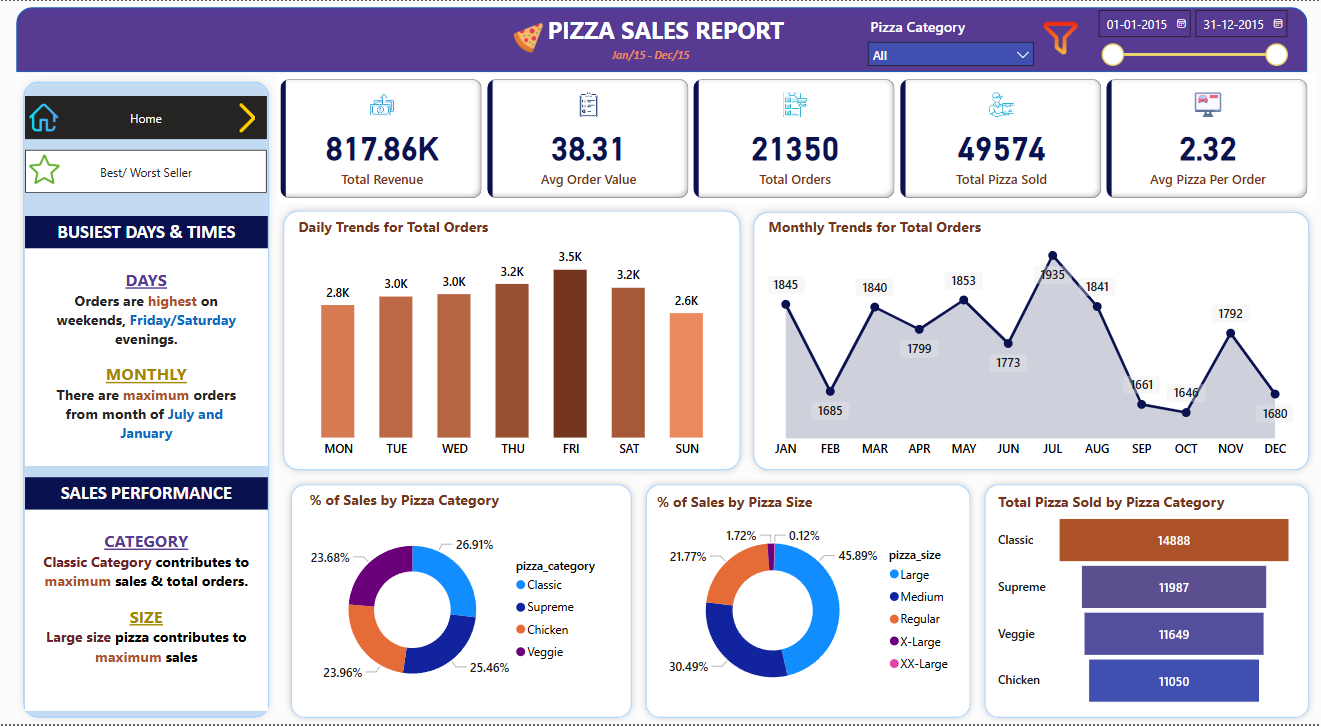

What the dashboard file says about the page in this screenshot:
{"tool":"powerbi","page":{"name":"Home","canvas":[1500,820],"ordinal":0},"visuals":[{"type":"cardVisual","fields":{"Data":["pizza_sales.Total Revenue","pizza_sales.Avg Order Value","pizza_sales.Total Orders","pizza_sales.Total Pizza Sold","pizza_sales.Avg Pizza Per Order"]},"box":[313.1,83.6,1178.7,145.9],"z":0},{"type":"shape","box":[18.4,7.1,1463.5,73.7],"z":1000},{"type":"textbox","box":[688.5,46.8,117.6,36.8],"z":2000},{"type":"shape","box":[18.4,83.6,294.7,736.7],"z":3000},{"type":"textbox","box":[535.5,9.9,437.8,48.2],"z":4000},{"type":"image","box":[569.5,19.8,58.1,43.9],"z":5000},{"type":"shape","box":[313.1,229.5,534.1,310.3],"z":6000},{"type":"columnChart","title":"Daily Trends for Total Orders","fields":{"Category":["pizza_sales.Order Day"],"Y":["pizza_sales.Total Orders"]},"box":[332.9,243.7,497.3,283.3],"z":7000},{"type":"shape","box":[845.8,230.9,646,308.8],"z":8000},{"type":"areaChart","title":"Monthly Trends for Total Orders","fields":{"Category":["pizza_sales.Order Month"],"Y":["pizza_sales.Total Orders"]},"box":[865.6,243.7,604.9,283.3],"z":9000},{"type":"shape","box":[321.6,539.8,402.4,280.5],"z":10000},{"type":"shape","box":[724,539.8,383.9,280.5],"z":11000},{"type":"shape","box":[1107.9,539.8,383.9,280.5],"z":12000},{"type":"donutChart","title":"% of Sales by Pizza Category","fields":{"Category":["pizza_sales.pizza_category"],"Y":["pizza_sales.Total Revenue"]},"box":[345.7,553.9,352.8,250.8],"z":13000},{"type":"donutChart","title":"% of Sales by Pizza Size","fields":{"Y":["pizza_sales.Total Revenue"],"Category":["pizza_sales.pizza_size"]},"box":[739.5,555.4,352.8,249.3],"z":14000},{"type":"funnel","title":"Total Pizza Sold by Pizza Category","fields":{"Category":["pizza_sales.pizza_category"],"Y":["pizza_sales.Total Pizza Sold"]},"box":[1126.3,555.4,344.3,249.3],"z":15000},{"type":"textbox","box":[28.3,243.7,274.8,36.8],"z":16000},{"type":"textbox","box":[28.3,280.5,274.8,246.5],"z":17000},{"type":"textbox","box":[28.3,539.8,274.8,36.8],"z":18000},{"type":"textbox","box":[28.3,576.6,274.8,228.1],"z":19000},{"type":"slicer","fields":{"Values":["pizza_sales.pizza_category"]},"box":[973.3,12.8,208.3,68],"z":20000},{"type":"slicer","fields":{"Values":["pizza_sales.order_date"]},"box":[1232.6,0,235.2,83.6],"z":21000},{"type":"pageNavigator","box":[28.3,107.7,274.8,49.6],"z":22000},{"type":"pageNavigator","box":[28.3,168.6,274.8,49.6],"z":23000},{"type":"image","box":[28.3,107.7,42.5,49.6],"z":24000},{"type":"image","box":[257.8,107.7,45.3,49.6],"z":25000},{"type":"image","box":[28.3,168.6,43.9,43.9],"z":26000},{"type":"image","box":[1168.8,9.9,66.6,63.8],"z":27000}]}

Visuals, with their boxes in screenshot pixels (x1, y1, x2, y2), scaled from the page's 1500x820 canvas onto the 1321x727 screenshot:
cardVisual - pizza_sales.Total Revenue x pizza_sales.Avg Order Value: (276, 74, 1314, 203)
shape: (16, 6, 1305, 72)
textbox: (606, 41, 710, 74)
shape: (16, 74, 276, 726)
textbox: (472, 9, 857, 52)
image: (502, 18, 553, 56)
shape: (276, 203, 746, 479)
"Daily Trends for Total Orders" columnChart: (293, 216, 731, 467)
shape: (745, 205, 1314, 478)
"Monthly Trends for Total Orders" areaChart: (762, 216, 1295, 467)
shape: (283, 479, 638, 726)
shape: (638, 479, 976, 726)
shape: (976, 479, 1314, 726)
"% of Sales by Pizza Category" donutChart: (304, 491, 615, 713)
"% of Sales by Pizza Size" donutChart: (651, 492, 962, 713)
"Total Pizza Sold by Pizza Category" funnel: (992, 492, 1295, 713)
textbox: (25, 216, 267, 249)
textbox: (25, 249, 267, 467)
textbox: (25, 479, 267, 511)
textbox: (25, 511, 267, 713)
slicer - pizza_sales.pizza_category: (857, 11, 1041, 72)
slicer - pizza_sales.order_date: (1086, 0, 1293, 74)
pageNavigator: (25, 95, 267, 139)
pageNavigator: (25, 149, 267, 193)
image: (25, 95, 62, 139)
image: (227, 95, 267, 139)
image: (25, 149, 64, 188)
image: (1029, 9, 1088, 65)
